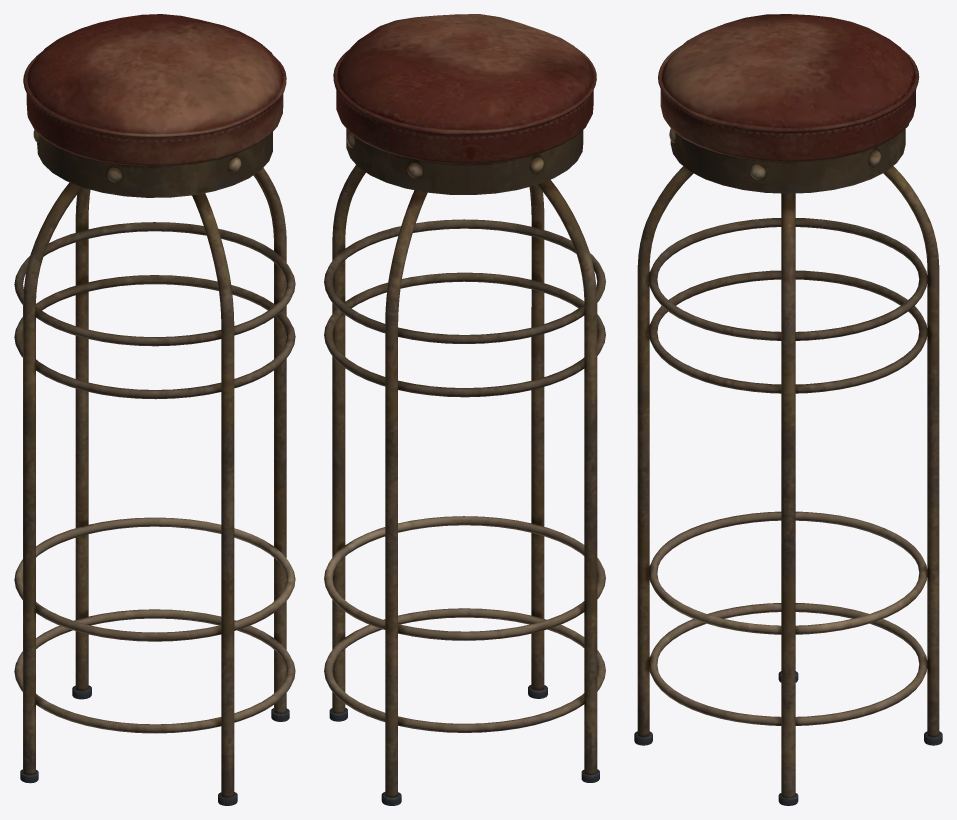
File: metal_stool_01.d0089902.glb
The picture shows the model from 3 angles, left to right: view 1: azimuth 30°, elevation 25°; view 2: azimuth 150°, elevation 25°; view 3: azimuth 270°, elevation 25°; orthographic projection.
Parts seen in each view (by area): view 1: metal_stool_01; view 2: metal_stool_01; view 3: metal_stool_01.
Boxes of the visible parts, left/top/right/bottom form: metal_stool_01: left=14, top=14, right=295, bottom=805; metal_stool_01: left=324, top=14, right=605, bottom=805; metal_stool_01: left=634, top=14, right=942, bottom=805.
Bounding box in the file's own units: 0.3987 × 1 × 0.4017.
Materials: 1 (1 with a texture image).
